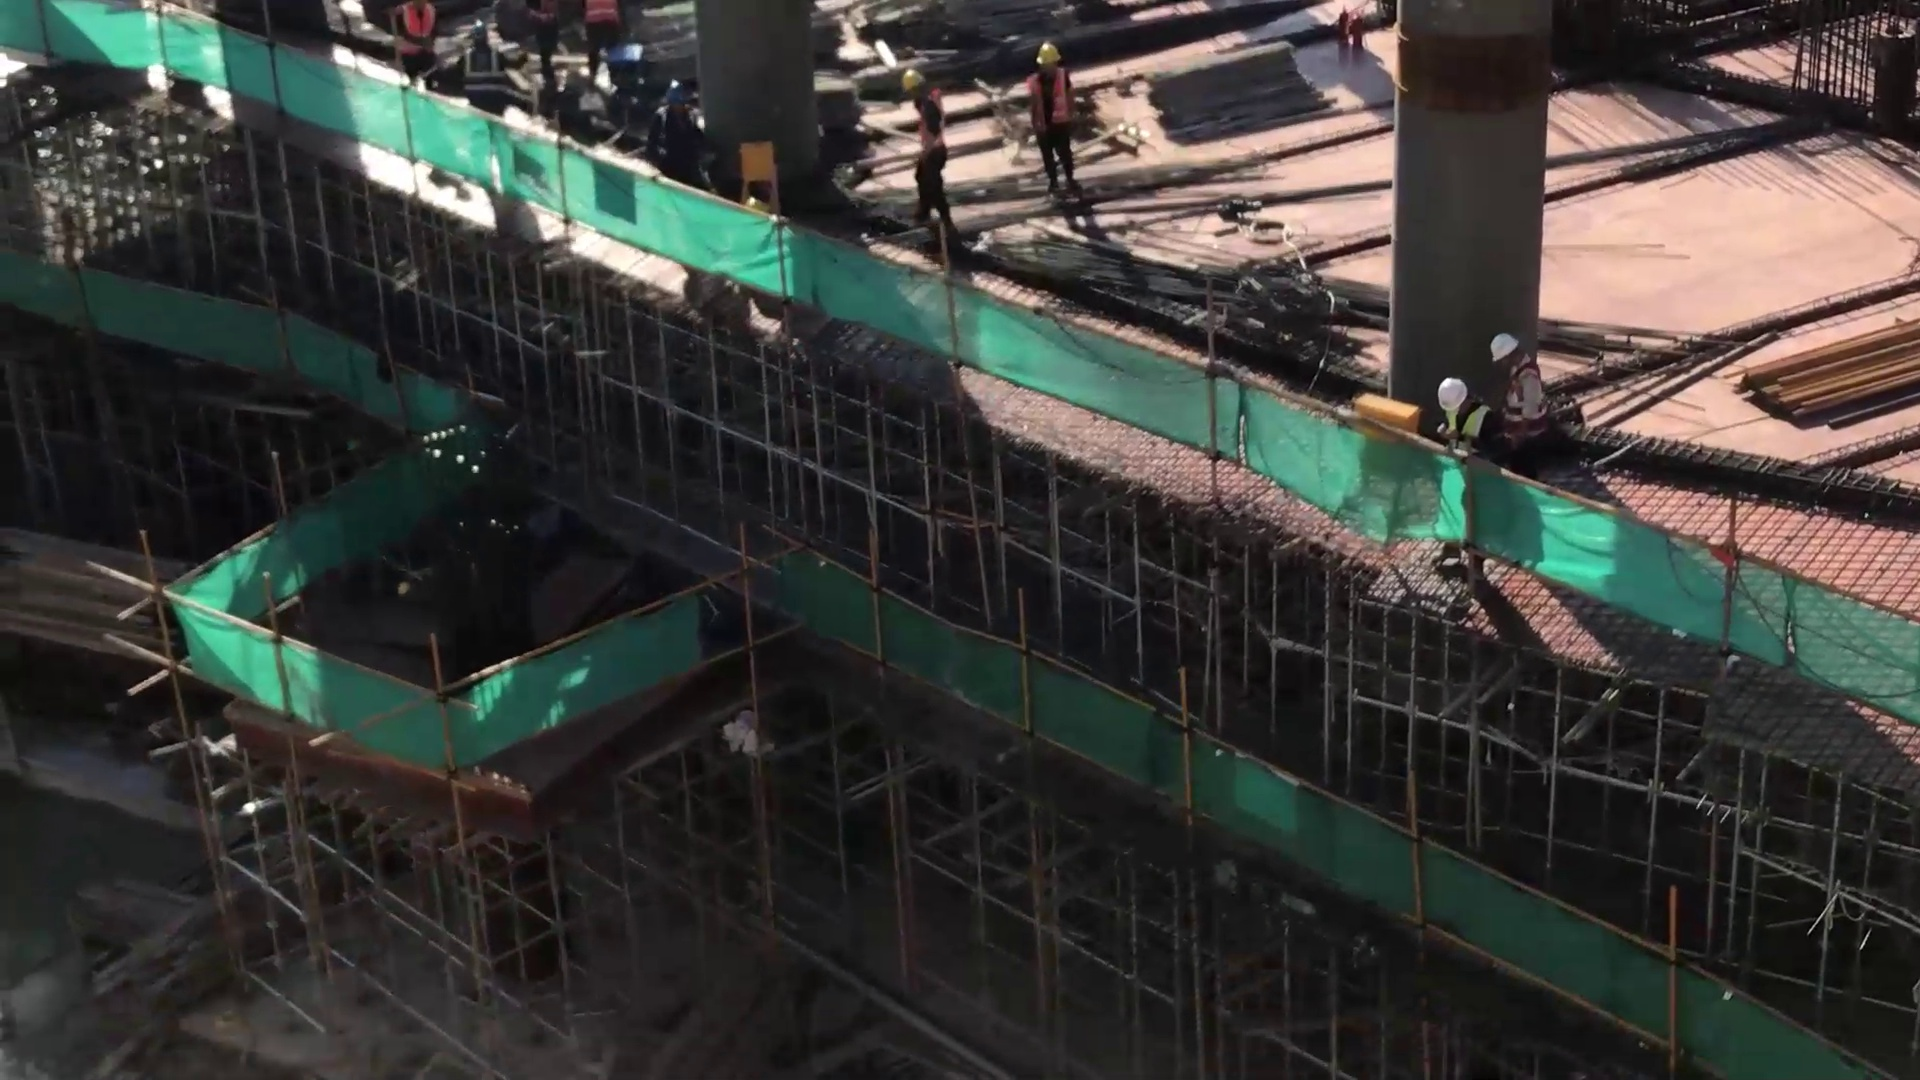helmet: (889, 53, 935, 91), (1493, 326, 1531, 366), (1432, 366, 1467, 412), (1029, 34, 1069, 70)
person: (1479, 299, 1575, 483), (892, 66, 969, 223), (1023, 42, 1086, 192), (566, 1, 654, 95), (392, 8, 448, 96)
vest: (1498, 354, 1551, 439), (383, 6, 447, 69), (1024, 68, 1085, 134), (583, 1, 621, 19)
